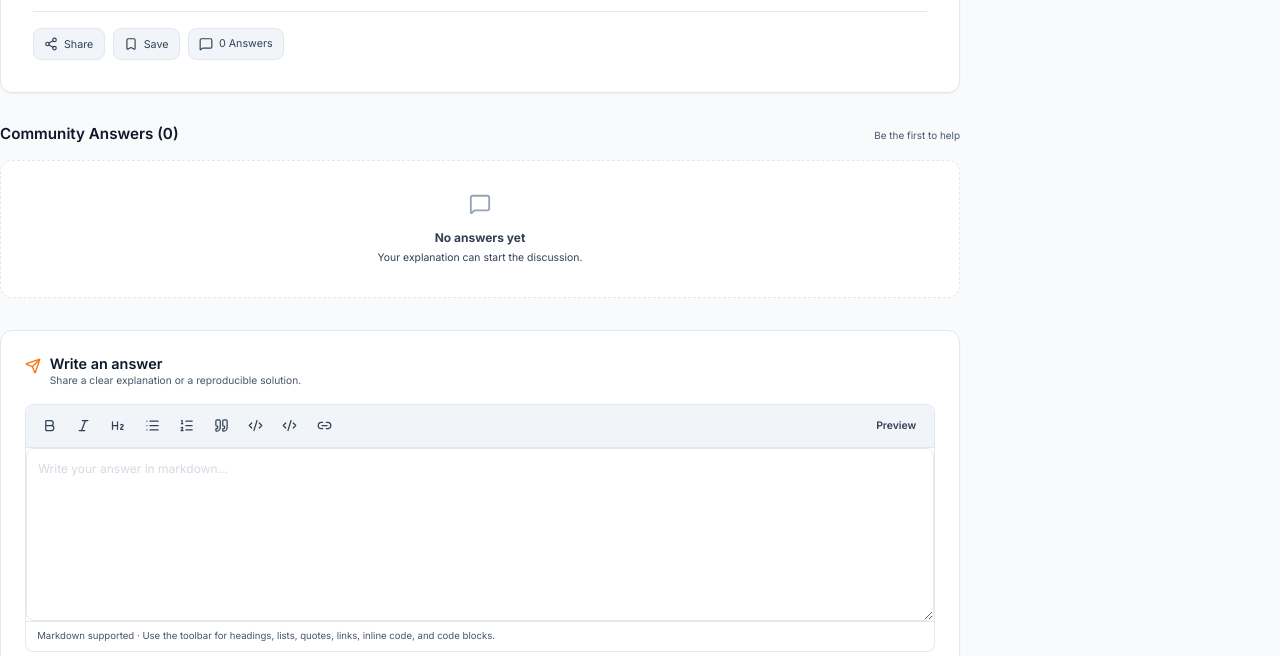
Scenario: opening another question resets the answer draft and question state
(page scrolled)
Type "Draft intended only for the first question" into the text box named "Answer markdown editor".
click(480, 534); type("Draft intended only for the first question")  # box [26, 448, 934, 621]
(page scrolled)
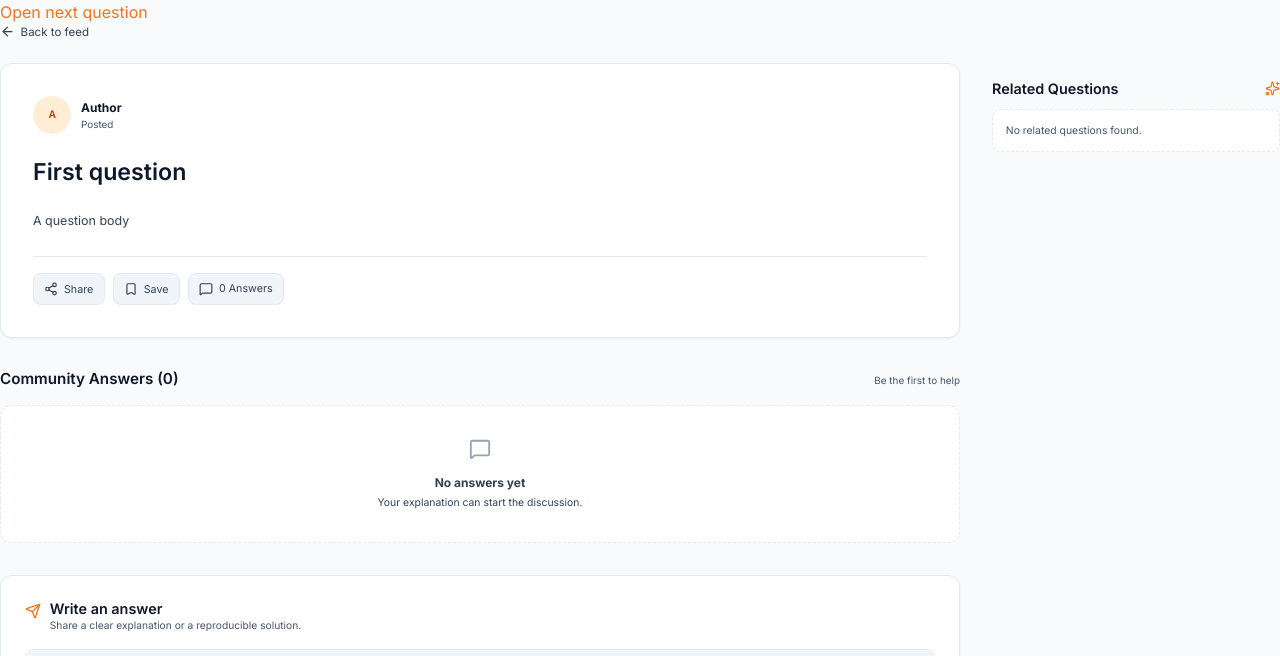
Click the link "Open next question".
click(74, 12)  # box [0, 2, 148, 22]
(page scrolled)
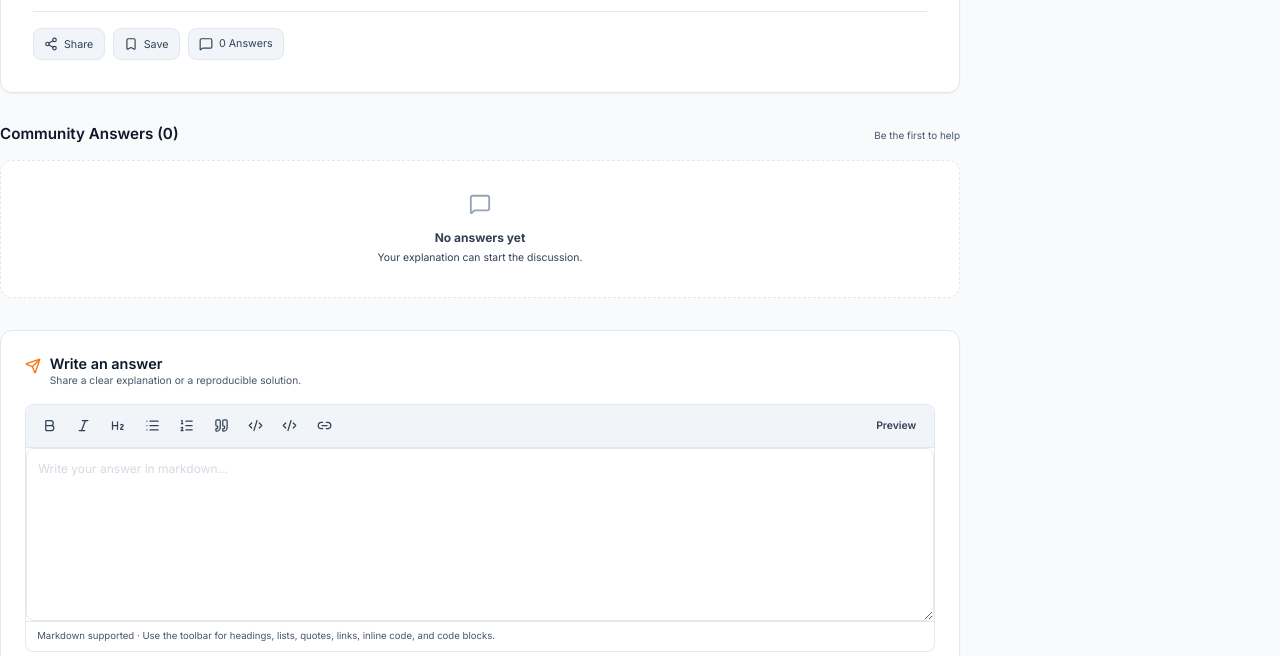
Check: the text box named "Answer markdown editor" is empty, box [26, 448, 934, 621]
Check: the heading "First question" is gone
